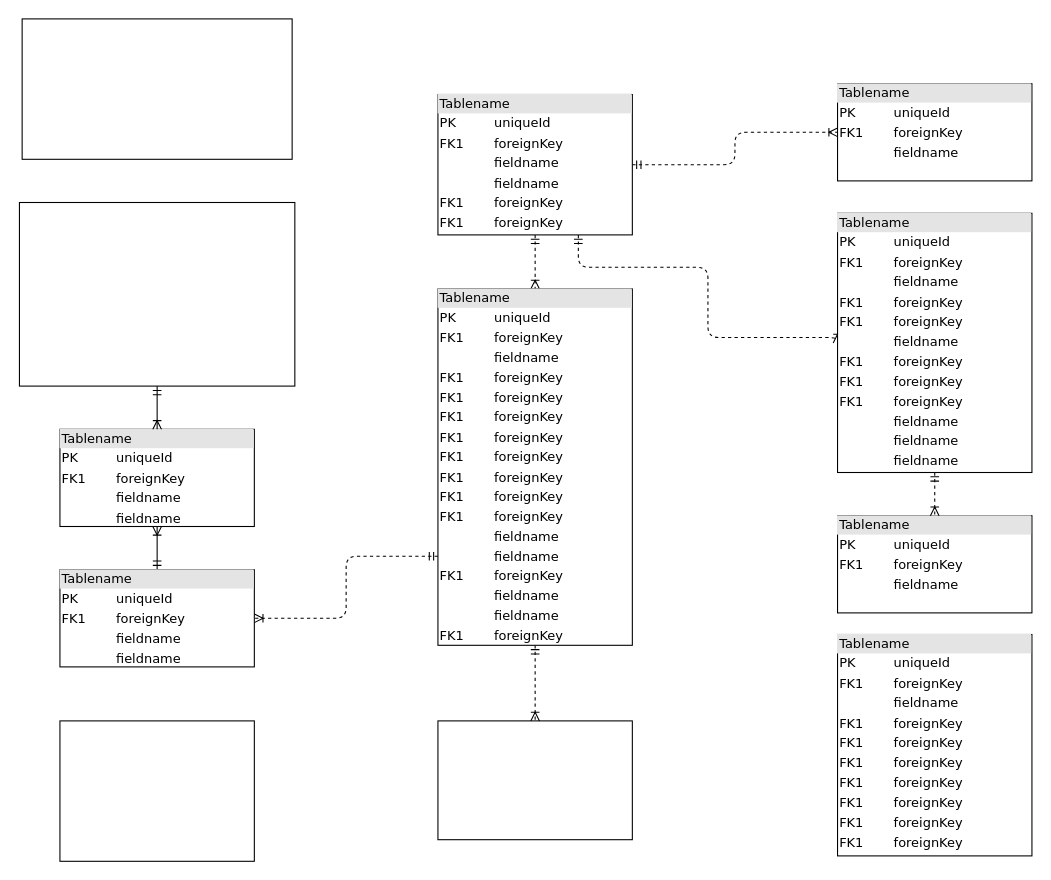
The diagram is 1051 pixels wide and 880 high, and some of its shapes have lost their labels. Each missing label, with the centre of its shape:
"Inventory PK ItemID ItemName Barcode Quantity LowStockAlert" belongs at (156,293).
"Tablename PK uniqueId FK1 foreignKey fieldname fieldname fieldname fieldname" belongs at (156,790).
"Tablename PK uniqueId FK1 foreignKey fieldname fieldname FK1 foreignKey" belongs at (534,780).
"Users PK UserID UserName PasswordHash Role Email CreateTime(DATA+Time)" belongs at (156,88).
